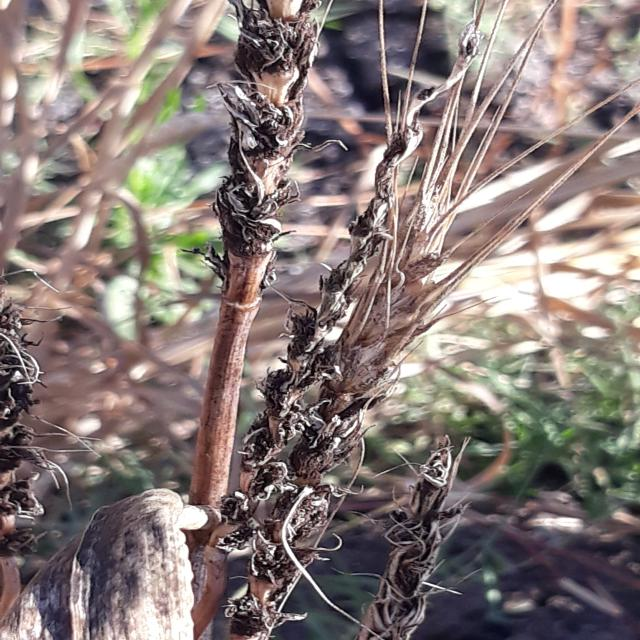loose_charred: (204, 15, 537, 640), (186, 0, 316, 640), (14, 471, 230, 640), (0, 274, 95, 640), (364, 431, 479, 640)
